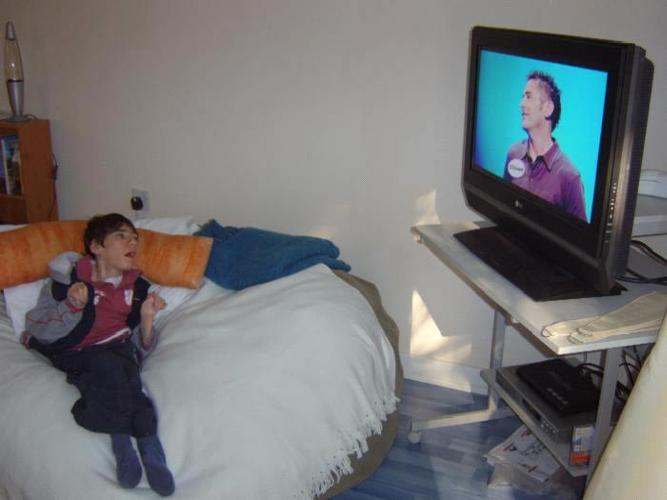person: (25, 214, 179, 492)
